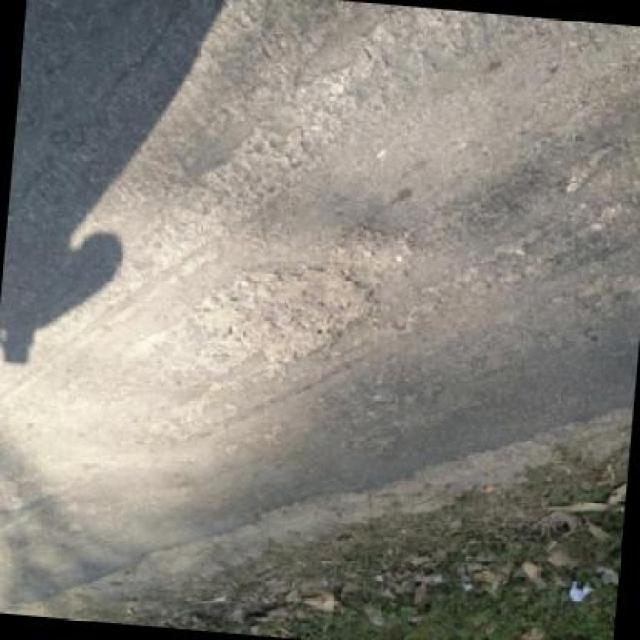pothole: (193, 255, 389, 383), (326, 216, 417, 275)
